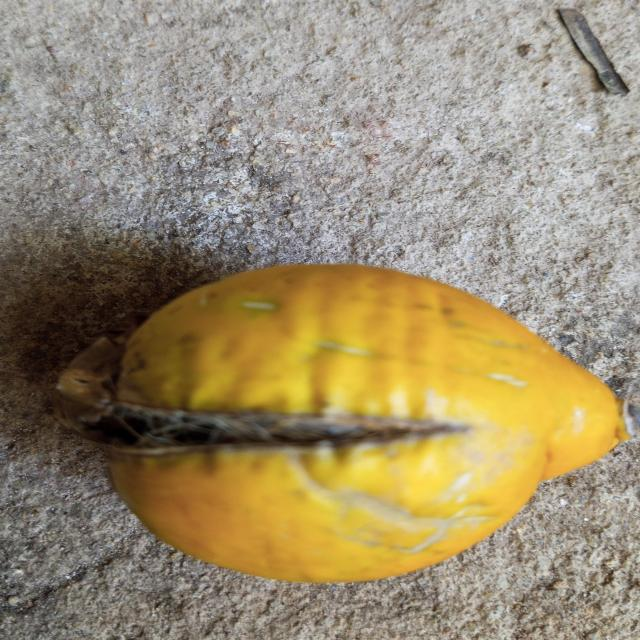damaged: (93, 263, 630, 586)
